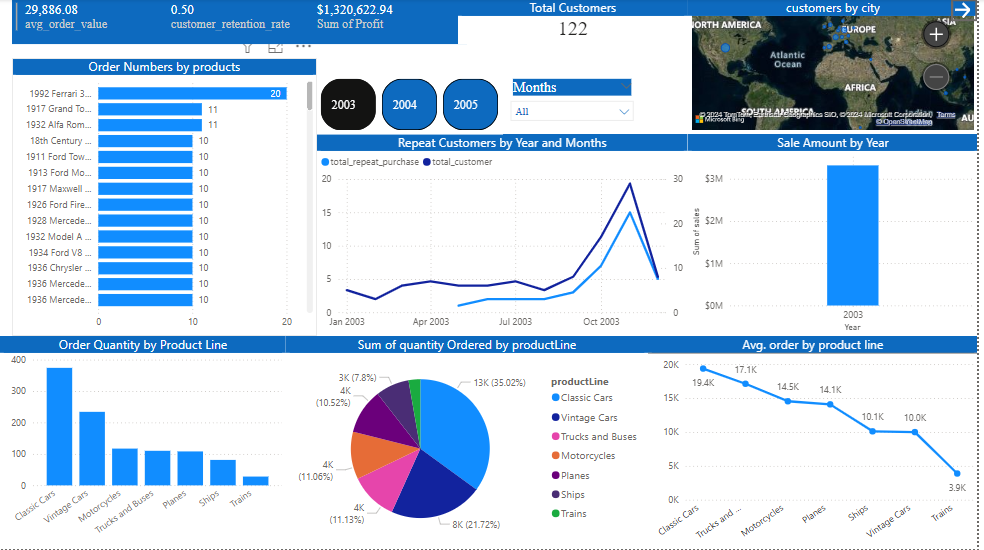

Layout of this report page (visuals, bound fields, positions):
{"tool":"powerbi","page":{"name":"Page 1","canvas":[1280,720],"ordinal":0},"visuals":[{"type":"map","title":"customers by city","fields":{"Category":["customers.country"],"Size":["Count(customers.customerNumber)"]},"box":[900.7,0,379.6,176.7],"z":0},{"type":"barChart","title":"Order Numbers by products","fields":{"Category":["products.productName"],"Y":["CountNonNull(order_details.orderNumber)"]},"box":[15.8,77.8,398.9,362.9],"z":1000},{"type":"columnChart","title":"Sale Amount by Year","fields":{"Category":["orders.Year"],"Y":["Sum(order_details.sales)"]},"box":[900,177.1,380.2,263.5],"z":2000},{"type":"pieChart","title":"Sum of quantity Ordered by productLine","fields":{"Category":["products.productLine"],"Y":["Sum(order_details.quantityOrdered)"]},"box":[374.4,440.6,473.8,277.9],"z":3000},{"type":"lineChart","title":"Avg. order by product line","fields":{"Category":["products.productLine"],"Y":["order_details.avg_order_value"]},"box":[848.2,440.6,432,279.4],"z":4000},{"type":"lineChart","title":"Repeat Customers by Year and Months","fields":{"Y":["orders.total_repeat_purchase"],"Category":["orders.orderDate.Variation.Date Hierarchy.Year","orders.orderDate.Variation.Date Hierarchy.Month"],"Y2":["orders.total_customer"]},"box":[414.7,177.1,485.3,263.5],"z":5000},{"type":"multiRowCard","fields":{"Values":["order_details.avg_order_value","orders.customer_retention_rate","Sum(order_details.Profit)"]},"box":[15.8,0,594.7,59],"z":5001},{"type":"slicer","fields":{"Values":["orders.Month Name"]},"box":[658.1,99.4,181.4,77.8],"z":5002},{"type":"advancedSlicerVisual","fields":{"Values":["orders.Year"]},"box":[414.7,99.4,243.4,77.8],"z":5003},{"type":"columnChart","title":"Order Quantity by Product Line","fields":{"Category":["products.productLine"],"Y":["CountNonNull(order_details.quantityOrdered)"]},"box":[0,441.2,374.4,277.5],"z":5004},{"type":"card","title":"Total Customers","fields":{"Values":["Count(customers.customerNumber)"]},"box":[599,0,301,59],"z":5005},{"type":"actionButton","box":[1245.2,0,34.8,29.4],"z":5006}]}

Visuals, with their boxes in screenshot pixels (x1, y1, x2, y2), scaled from the page's 1280x720 canvas onto the 984x550 screenshot:
"customers by city" map: bbox=(692, 0, 983, 135)
"Order Numbers by products" barChart: bbox=(12, 59, 319, 337)
"Sale Amount by Year" columnChart: bbox=(692, 135, 983, 337)
"Sum of quantity Ordered by productLine" pieChart: bbox=(288, 337, 652, 549)
"Avg. order by product line" lineChart: bbox=(652, 337, 983, 549)
"Repeat Customers by Year and Months" lineChart: bbox=(319, 135, 692, 337)
multiRowCard - order_details.avg_order_value x orders.customer_retention_rate: bbox=(12, 0, 469, 45)
slicer - orders.Month Name: bbox=(506, 76, 645, 135)
advancedSlicerVisual - orders.Year: bbox=(319, 76, 506, 135)
"Order Quantity by Product Line" columnChart: bbox=(0, 337, 288, 549)
"Total Customers" card: bbox=(460, 0, 692, 45)
actionButton: bbox=(957, 0, 983, 22)
